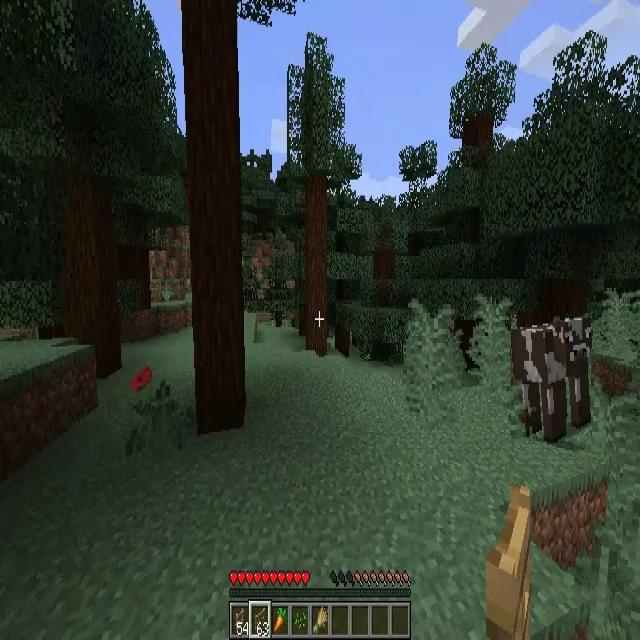cow: (512, 313, 592, 441)
flower: (133, 364, 175, 428)
